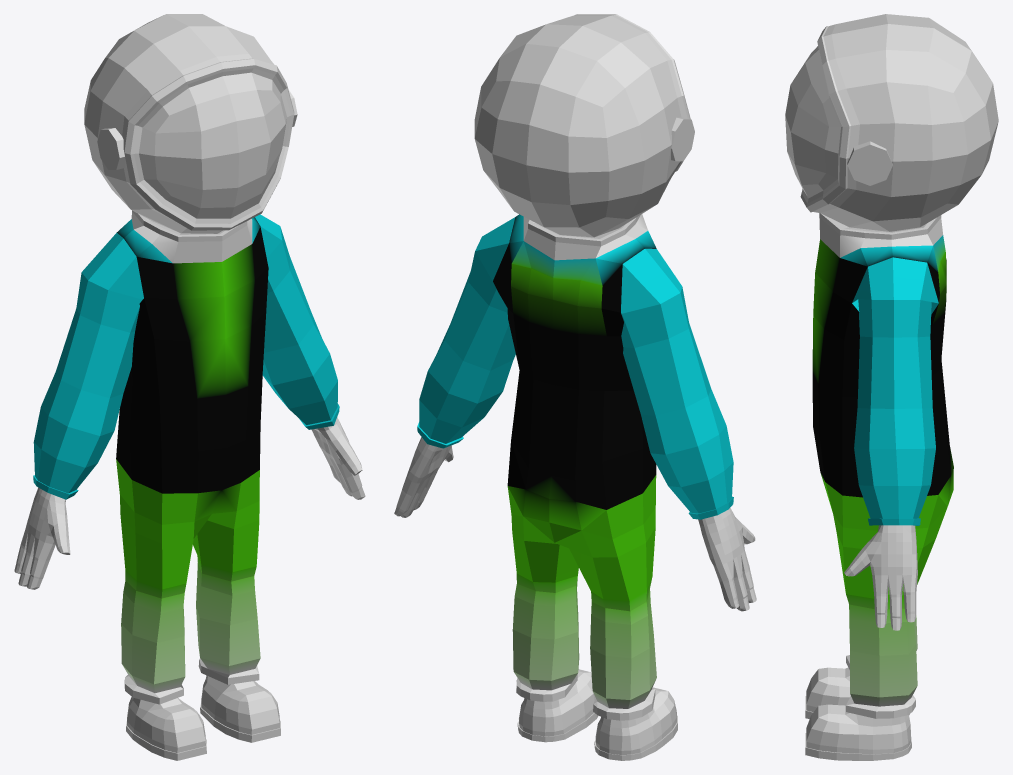
The model's file is SP_Apose.fbx.
3 renders of one model, left to right at view 1: azimuth 30°, elevation 25°; view 2: azimuth 150°, elevation 25°; view 3: azimuth 270°, elevation 25°, orthographic. The views are drawn at different scales.
Parts seen in each view (by area): view 1: SpaceMan_A_Pose; view 2: SpaceMan_A_Pose; view 3: SpaceMan_A_Pose.
Part boxes in pixels (<box>): SpaceMan_A_Pose: <box>14,14,365,760</box>; SpaceMan_A_Pose: <box>394,14,756,760</box>; SpaceMan_A_Pose: <box>785,14,998,760</box>.
Bounding box in the file's own units: 405 × 791 × 217.
